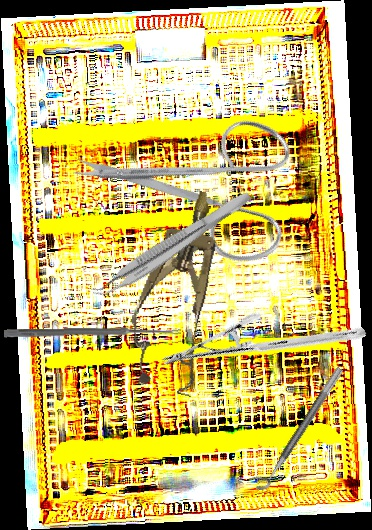Fixation Ring: (246, 359, 345, 495)
Iris Scissors: (64, 62, 331, 321)
Needle Holder: (160, 250, 368, 443)
Speculum: (116, 182, 243, 398)
Surgical Spoon: (3, 326, 182, 339)
Tissue Forceps: (88, 181, 254, 307)
